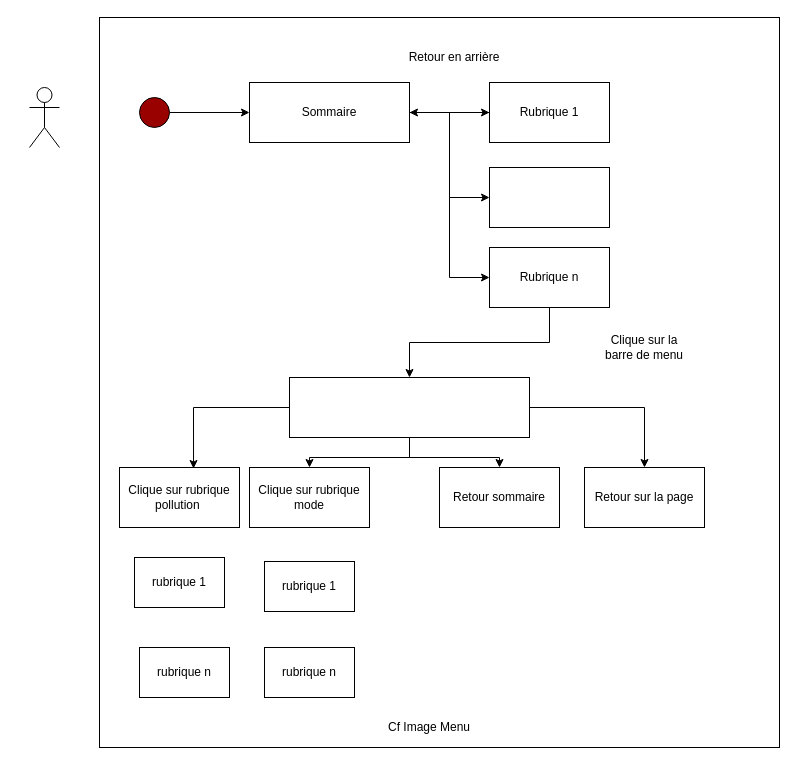
Some shapes in this 797 by 765 pixel diagram are drawn without their labels. Here are the shapes that lost their labels. From the top down, the box of each, then its label:
(28, 86, 60, 148): Internaute
(488, 166, 610, 228): Rubrique 2
(288, 376, 530, 438): Menu page
